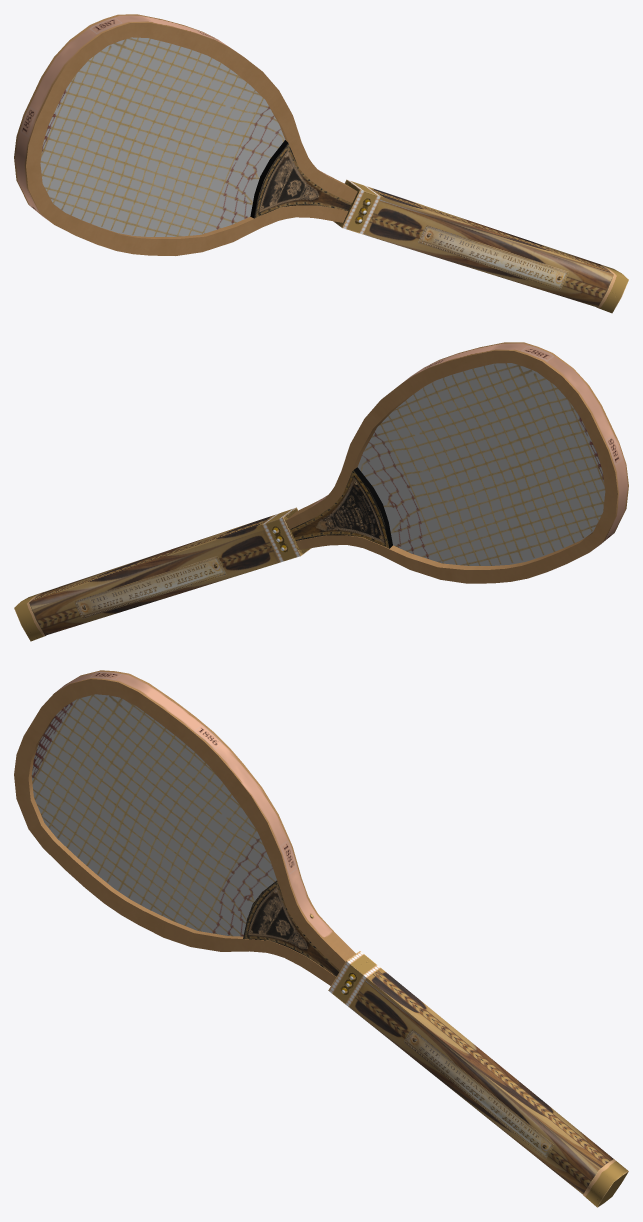
File: Golden Racket.fbx
3 views of the same model, one above another, from view 1: azimuth 30°, elevation 25°; view 2: azimuth 150°, elevation 25°; view 3: azimuth 330°, elevation 25° (orthographic).
Visible parts, largest first — view 1: pasted__pPlane11, pasted__pPlane18, pasted__pCylinder3, pCube1; view 2: pasted__pPlane19, pasted__pPlane18, pasted__pCylinder3, pCube1; view 3: pasted__pPlane11, pasted__pPlane18, pasted__pCylinder3, pCube1.
Part boxes in pixels (x1=…): pasted__pPlane11: x1=40, y1=37, x2=285, y2=236; pasted__pPlane18: x1=14, y1=14, x2=357, y2=255; pasted__pCylinder3: x1=333, y1=179, x2=628, y2=313; pCube1: x1=250, y1=140, x2=351, y2=218; pasted__pPlane19: x1=357, y1=363, x2=605, y2=565; pasted__pPlane18: x1=286, y1=342, x2=628, y2=583; pasted__pCylinder3: x1=14, y1=507, x2=311, y2=641; pCube1: x1=290, y1=467, x2=392, y2=548; pasted__pPlane11: x1=31, y1=694, x2=276, y2=936; pasted__pPlane18: x1=14, y1=670, x2=355, y2=985; pasted__pCylinder3: x1=328, y1=951, x2=628, y2=1207; pCube1: x1=243, y1=880, x2=339, y2=976.
Size of the model in its own units: 33.31 by 21.54 by 1.63.
2 materials, 2 textured.
